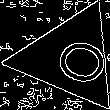O_NW: (34, 28, 105, 88)
